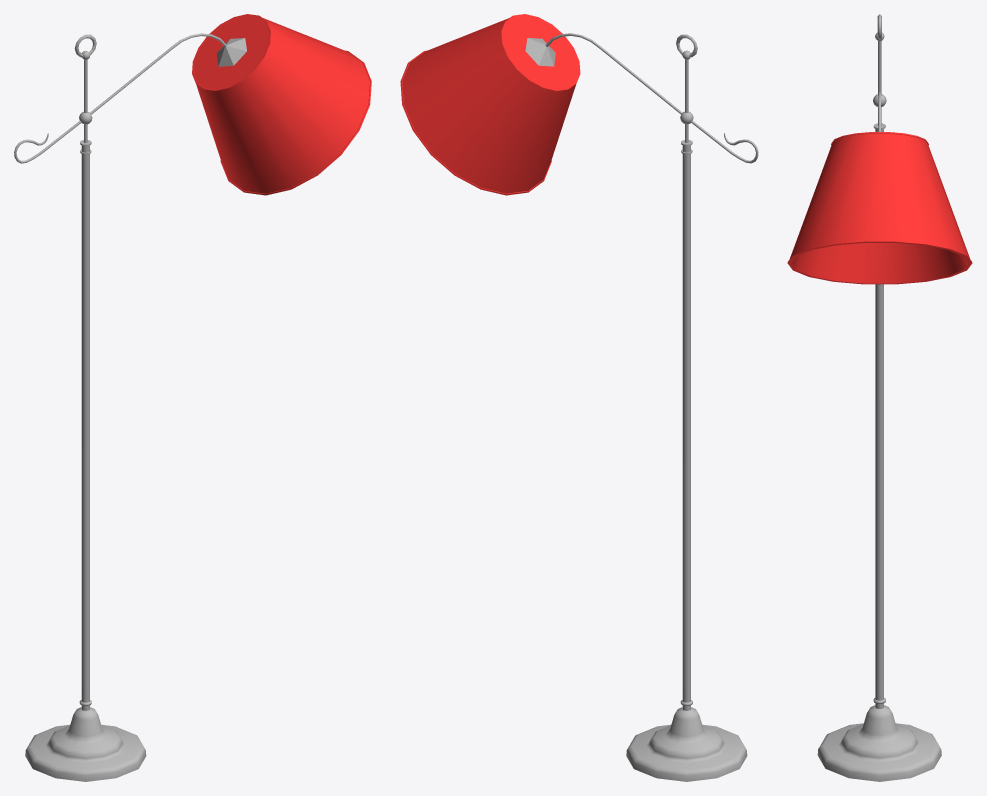
File: torchere_3.FBX
The picture shows the model from 3 angles, left to right: view 1: azimuth 30°, elevation 25°; view 2: azimuth 150°, elevation 25°; view 3: azimuth 270°, elevation 25°; orthographic projection. The views are drawn at different scales.
Parts seen in each view (by area): view 1: torchere_3; view 2: torchere_3; view 3: torchere_3.
Boxes of the visible parts, <box> form: torchere_3: <box>14,14,371,781</box>; torchere_3: <box>400,14,758,781</box>; torchere_3: <box>787,14,972,781</box>.
Bounding box in the file's own units: 0.7474 × 1.5 × 0.341.
